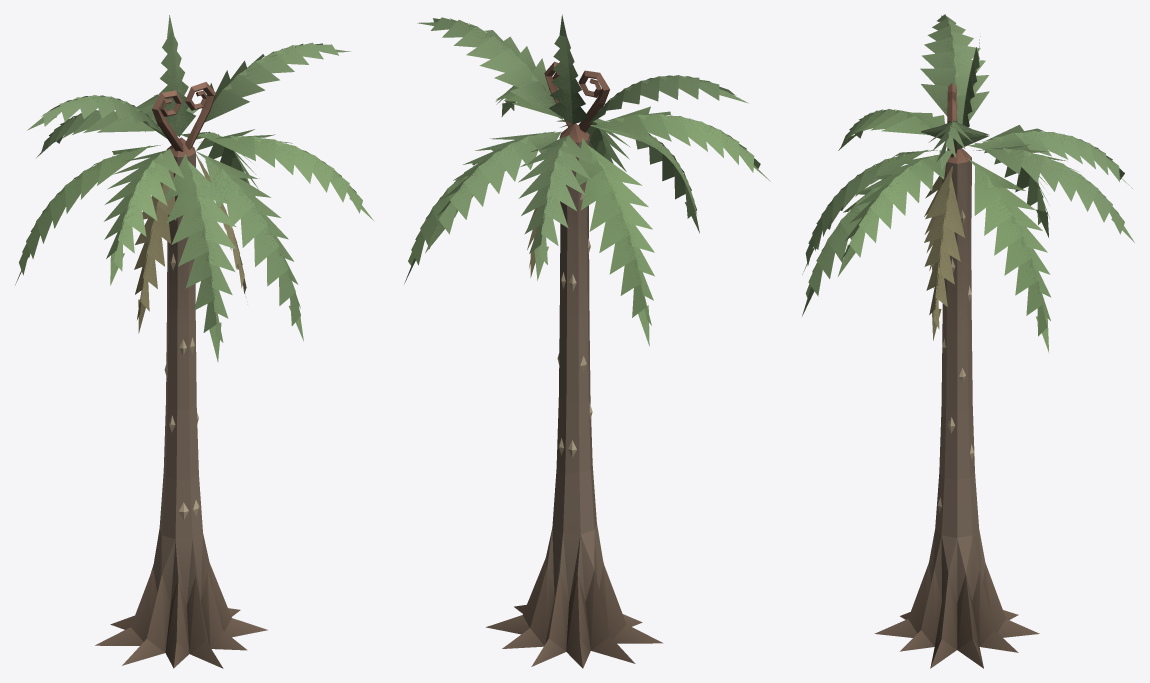
The model's file is treefern.glb.
The picture shows the model from 3 angles, left to right: view 1: azimuth 30°, elevation 25°; view 2: azimuth 150°, elevation 25°; view 3: azimuth 270°, elevation 25°; orthographic projection. The views are drawn at different scales.
Parts seen in each view (by area): view 1: treefern; view 2: treefern; view 3: treefern.
Boxes of the visible parts, left/top/right/bottom form: treefern: left=15, top=15, right=374, bottom=668; treefern: left=404, top=14, right=770, bottom=668; treefern: left=802, top=14, right=1134, bottom=668.
Bounding box in the file's own units: 4.44 × 8 × 4.03.
